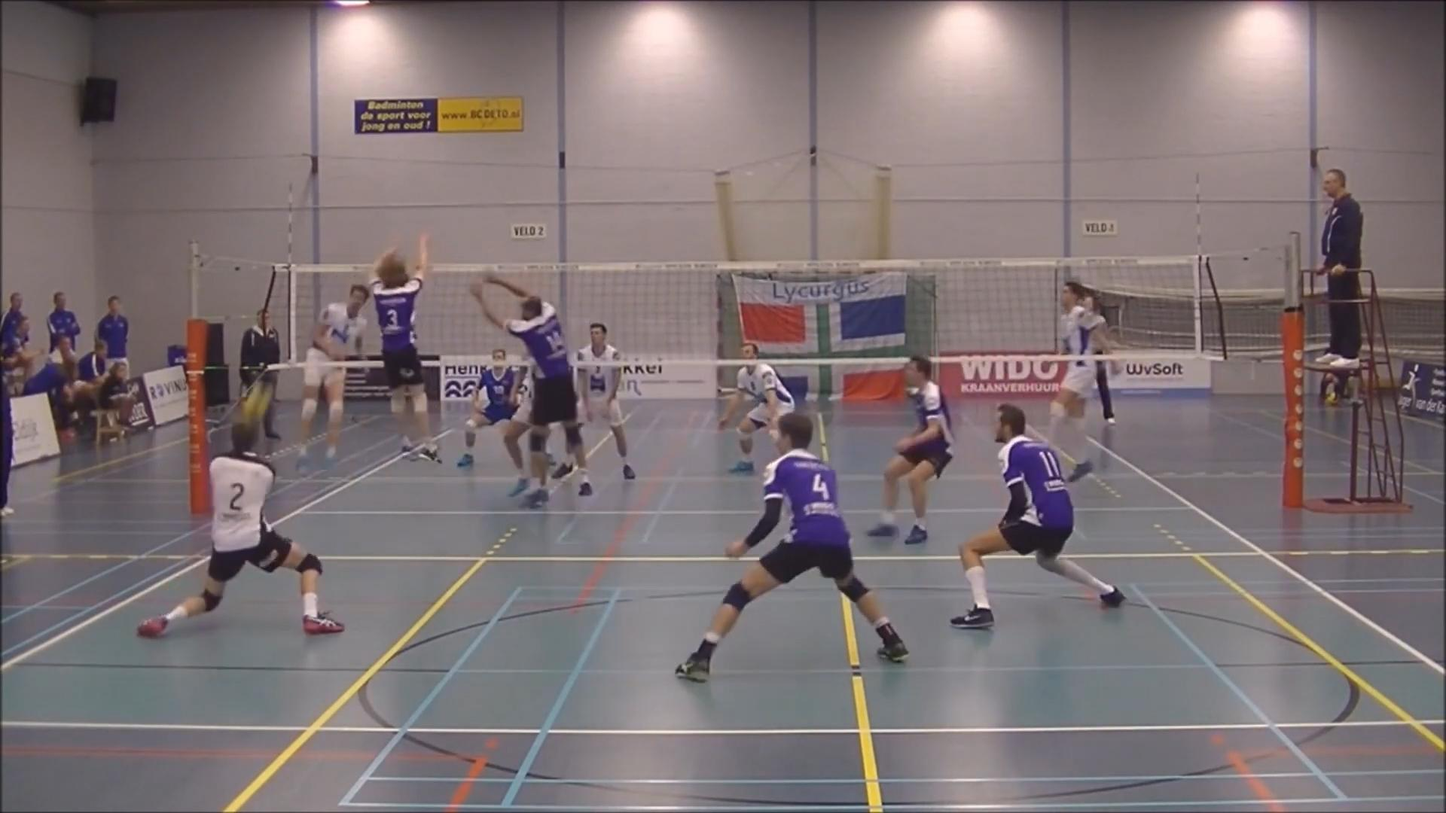Block: (458, 260, 583, 504), (337, 223, 441, 466)
Player: (676, 413, 908, 681), (138, 419, 343, 638), (950, 404, 1124, 629), (868, 355, 953, 544), (298, 284, 370, 469), (718, 343, 795, 473), (457, 349, 526, 492), (576, 322, 635, 480), (1047, 358, 1097, 481), (1096, 360, 1120, 425)
